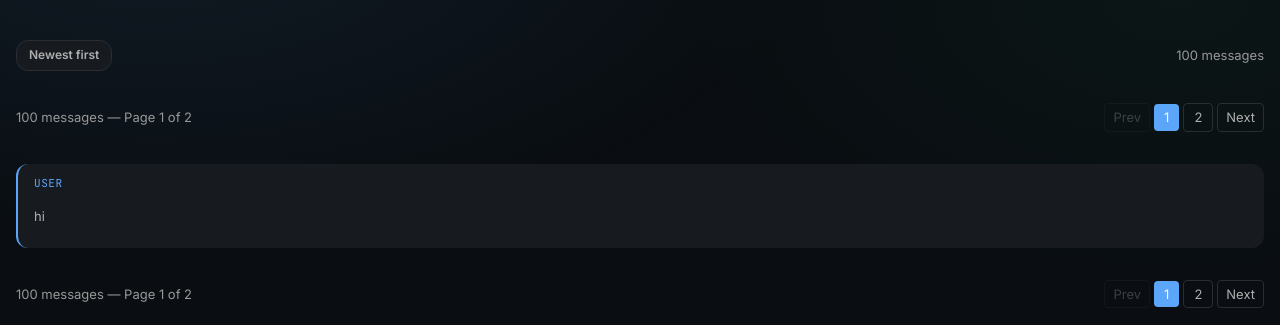
ConversationView — pagination and order › toggling order resets to page 1
// Initially page 1 newest-first
Click the button "Newest first": x=64, y=55 [16, 40, 112, 71]
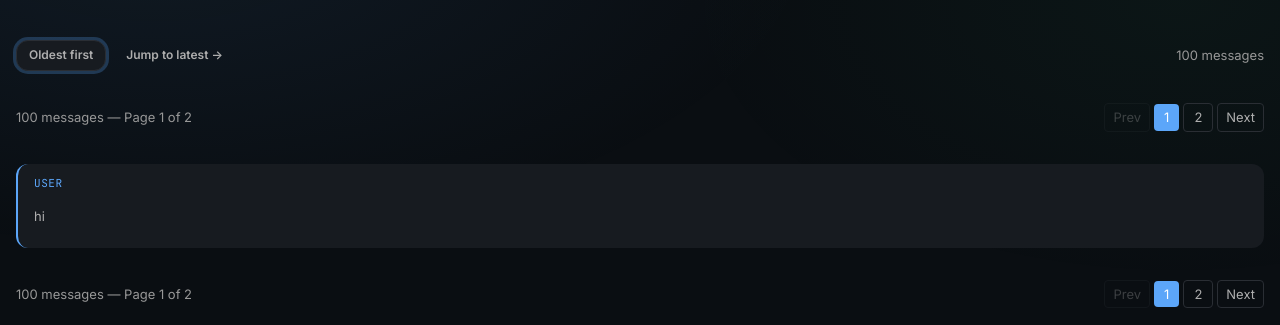
Result: the button "Jump to latest →" is shown at [114, 41, 235, 70]
